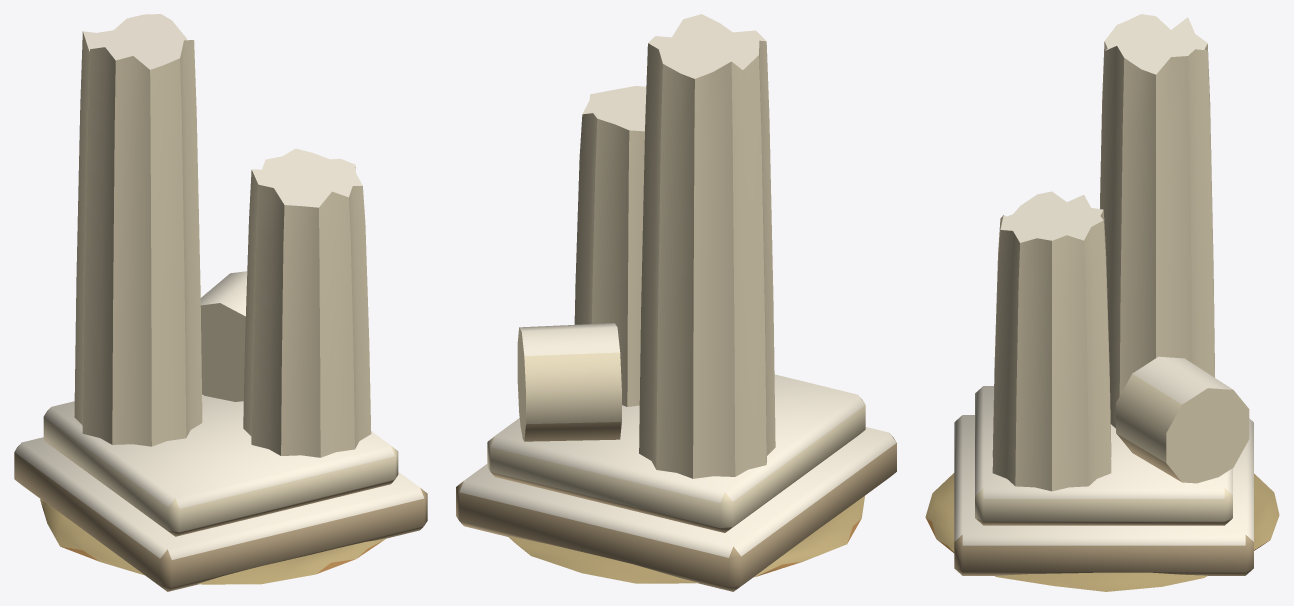
Rendered from BrokenColumns.fbx.
The picture shows the model from 3 angles, left to right: view 1: azimuth 30°, elevation 25°; view 2: azimuth 150°, elevation 25°; view 3: azimuth 270°, elevation 25°; orthographic projection. The views are drawn at different scales.
Visible parts, largest first — view 1: BrokenColumns; view 2: BrokenColumns; view 3: BrokenColumns.
Part boxes in pixels (left/top/right/bottom): BrokenColumns: left=14, top=14, right=427, bottom=591; BrokenColumns: left=456, top=14, right=896, bottom=591; BrokenColumns: left=925, top=14, right=1279, bottom=591.
Bounding box in the file's own units: 1.73 × 2.42 × 1.7.
1 material, 1 textured.
